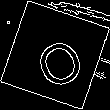O_NW: (24, 22, 86, 88)
